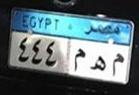4: (43, 40, 59, 67), (30, 38, 43, 66), (18, 37, 28, 61)
haa: (90, 56, 107, 70)
meem: (109, 54, 125, 76), (71, 49, 87, 71)
